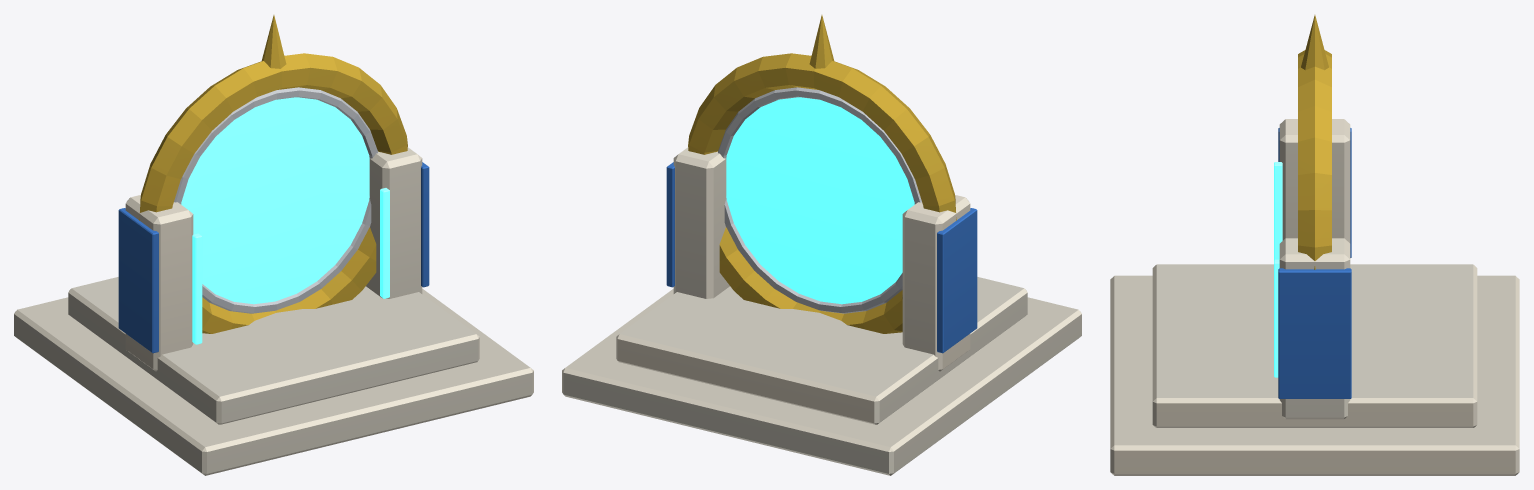
Rendered from portail.glb.
3 renders of one model, left to right at view 1: azimuth 30°, elevation 25°; view 2: azimuth 150°, elevation 25°; view 3: azimuth 270°, elevation 25°, orthographic. The views are drawn at different scales.
Parts seen in each view (by area): view 1: portail; view 2: portail; view 3: portail.
Part boxes in pixels (box(x1,y1,x2,y2)): portail: box(14, 15, 533, 475); portail: box(562, 15, 1081, 475); portail: box(1110, 15, 1519, 475).
Bounding box in the file's own units: 2.9 × 2.95 × 2.9.
